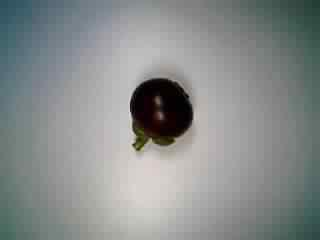mangosteen: (120, 75, 199, 158)
